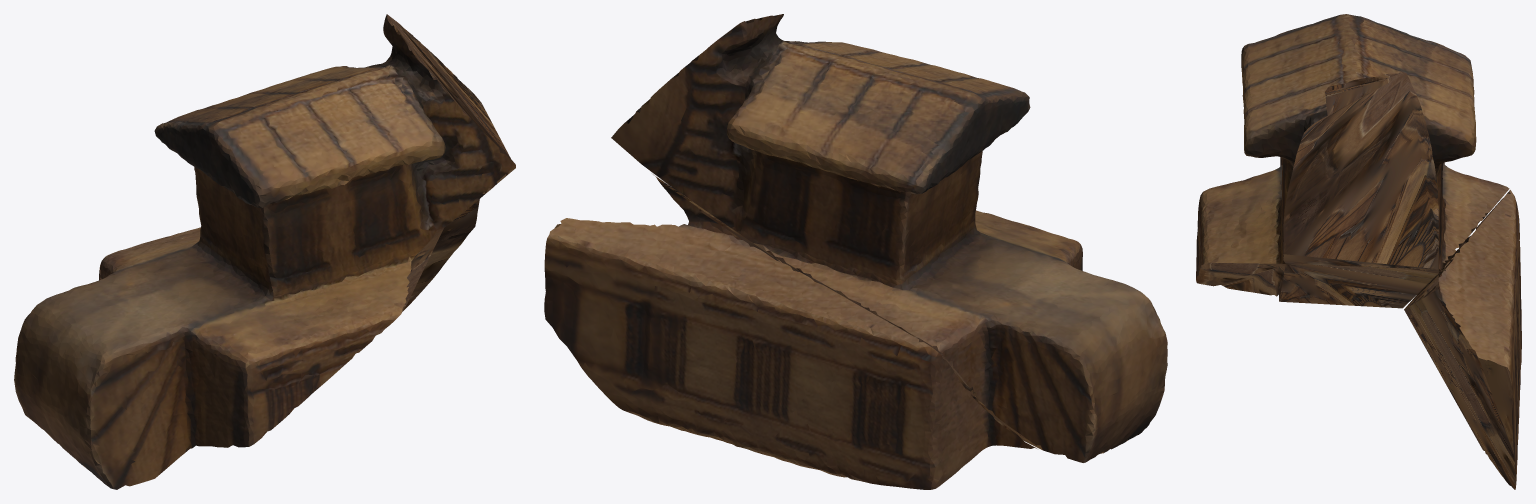
3 renders of one model, left to right at view 1: azimuth 30°, elevation 25°; view 2: azimuth 150°, elevation 25°; view 3: azimuth 270°, elevation 25°, orthographic. The views are drawn at different scales.
Parts seen in each view (by area): view 1: KLA-Or-10000_cell.008; view 2: KLA-Or-10000_cell.008; view 3: KLA-Or-10000_cell.008.
Part boxes in pixels (<box>): KLA-Or-10000_cell.008: <box>14,14,515,489</box>; KLA-Or-10000_cell.008: <box>544,14,1167,489</box>; KLA-Or-10000_cell.008: <box>1196,14,1521,489</box>.
Bounding box in the file's own units: 78.12 × 55.48 × 40.76.
